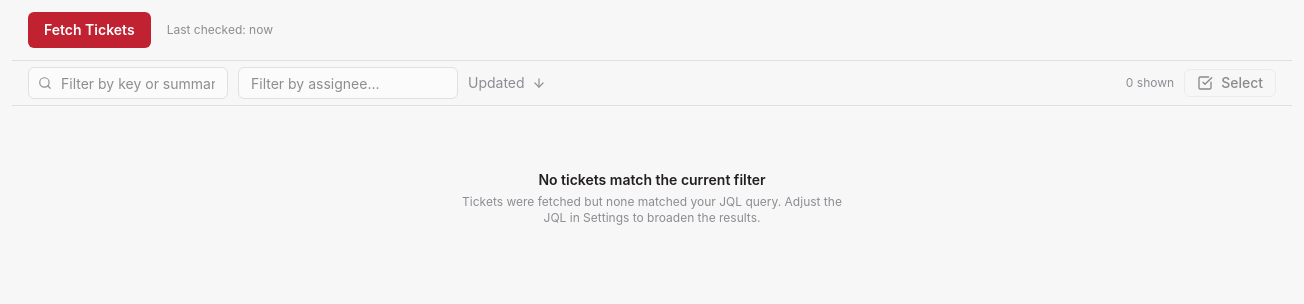
TicketListPage › renders ticket cards after fetch
Click the button "Fetch Tickets" at (89, 30), box [28,12,151,48]
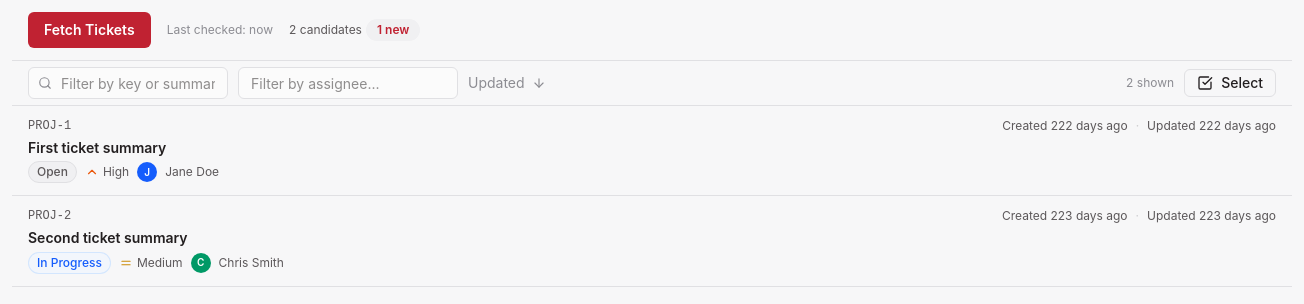
Check: the text "PROJ-1" is shown, box [28,118,71,134]
Check: the text "First ticket summary" is shown, box [28,139,166,156]
Check: the text "PROJ-2" is shown, box [28,208,71,224]
